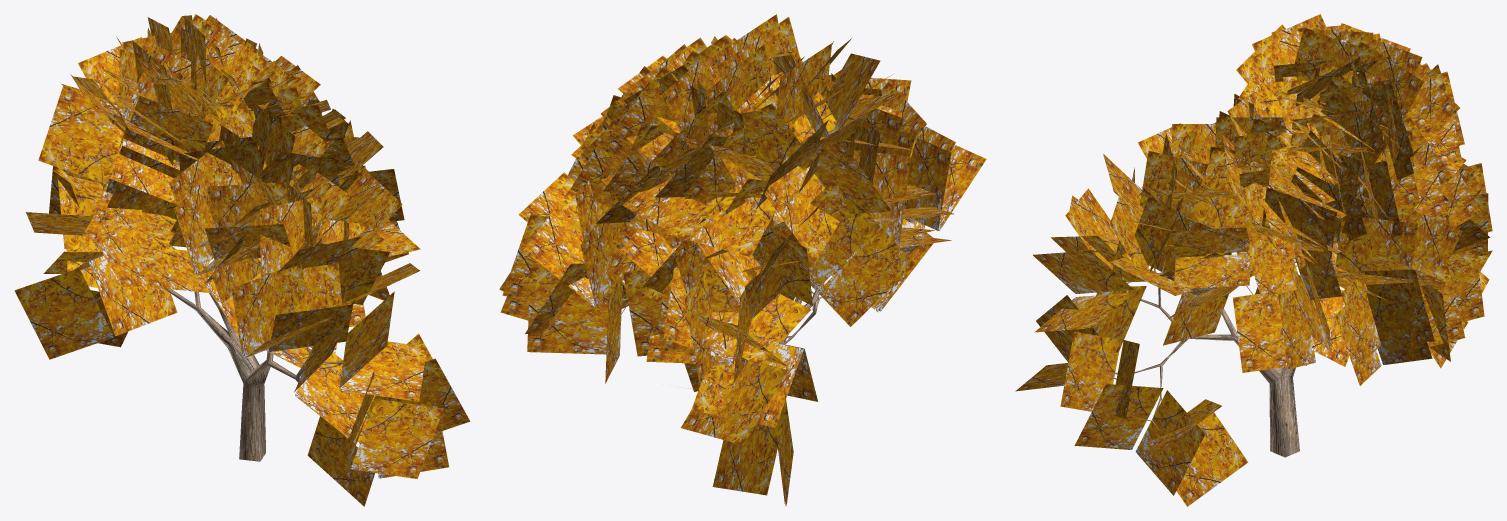
3 renders of one model, left to right at view 1: azimuth 30°, elevation 25°; view 2: azimuth 150°, elevation 25°; view 3: azimuth 270°, elevation 25°, orthographic. The views are drawn at different scales.
Visible parts, largest first — view 1: twig_012, tree_012; view 2: twig_012; view 3: twig_012, tree_012.
Part boxes in pixels (x1=…): twig_012: x1=15, y1=14, x2=470, y2=506; tree_012: x1=82, y1=243, x2=369, y2=461; twig_012: x1=499, y1=14, x2=986, y2=506; twig_012: x1=1015, y1=14, x2=1492, y2=506; tree_012: x1=1094, y1=248, x2=1380, y2=457.
Size of the model in its own units: 10.45 by 12.91 by 12.83.
Materials: 2 (2 with a texture image).
